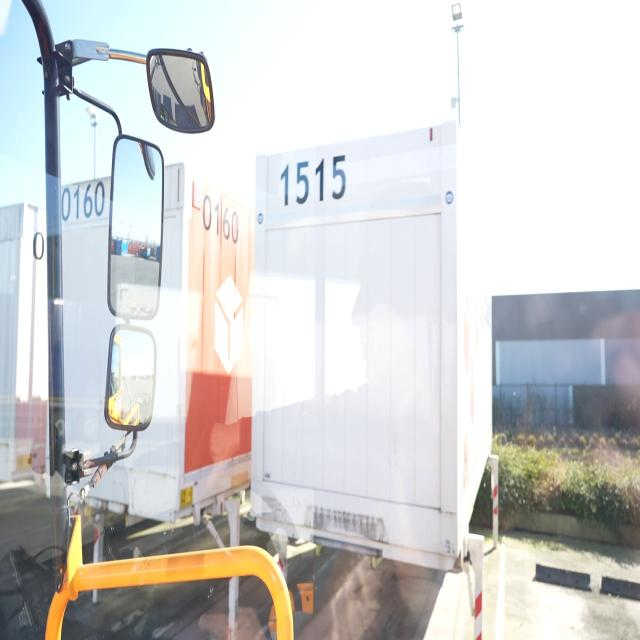Code: (279, 148, 350, 208), (199, 184, 239, 244)
